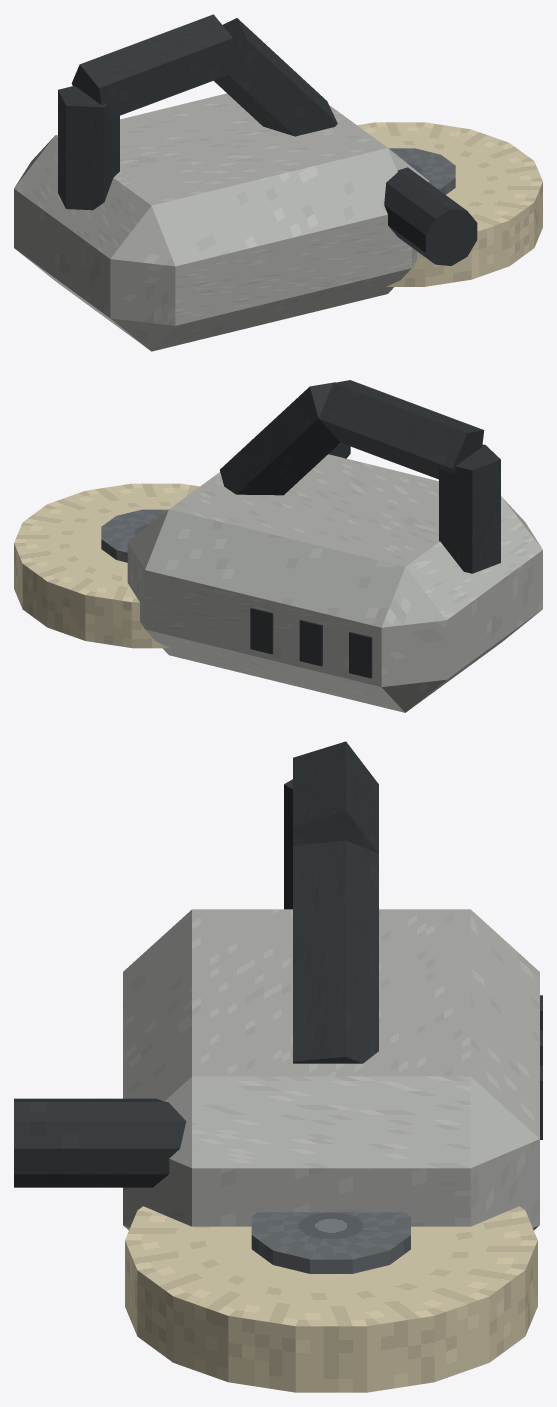
Rendered from polisher.glb.
3 views of the same model, one above another, from view 1: azimuth 30°, elevation 25°; view 2: azimuth 150°, elevation 25°; view 3: azimuth 270°, elevation 25° (orthographic). The views are drawn at different scales.
Visible parts, largest first — view 1: block_motor body, block_buffing pad, block_operator handle 1, block_operator handle 2, block_operator handle 0, block_side grip, block_center fastener; view 2: block_motor body, block_buffing pad, block_operator handle 1, block_operator handle 2, block_operator handle 0, block_cooling slot (×3), block_center fastener; view 3: block_motor body, block_buffing pad, block_operator handle 2, block_side grip, block_center fastener, block_operator handle 1, block_operator handle 0.
Part boxes in pixels (box(x1,y1,x2,y2)): block_motor body: box(14, 93, 429, 351); block_buffing pad: box(357, 122, 542, 286); block_operator handle 1: box(71, 14, 237, 119); block_operator handle 2: box(214, 18, 337, 136); block_operator handle 0: box(58, 85, 119, 210); block_side grip: box(384, 167, 477, 265); block_center fastener: box(389, 148, 455, 194); block_motor body: box(127, 454, 542, 712); block_buffing pad: box(14, 483, 199, 648); block_operator handle 1: box(318, 380, 484, 479); block_operator handle 2: box(220, 382, 340, 495); block_operator handle 0: box(439, 444, 500, 573); block_cooling slot (×3): box(250, 607, 372, 678); block_center fastener: box(101, 509, 167, 562); block_motor body: box(123, 909, 539, 1230); block_buffing pad: box(125, 1206, 537, 1392); block_operator handle 2: box(293, 840, 378, 1063); block_side grip: box(14, 1098, 186, 1187); block_center fastener: box(251, 1212, 410, 1273); block_operator handle 1: box(293, 741, 378, 853); block_operator handle 0: box(284, 779, 292, 909).
Size of the model in its own units: 0.2854 by 0.1599 by 0.1959.
1 material, 1 textured.
